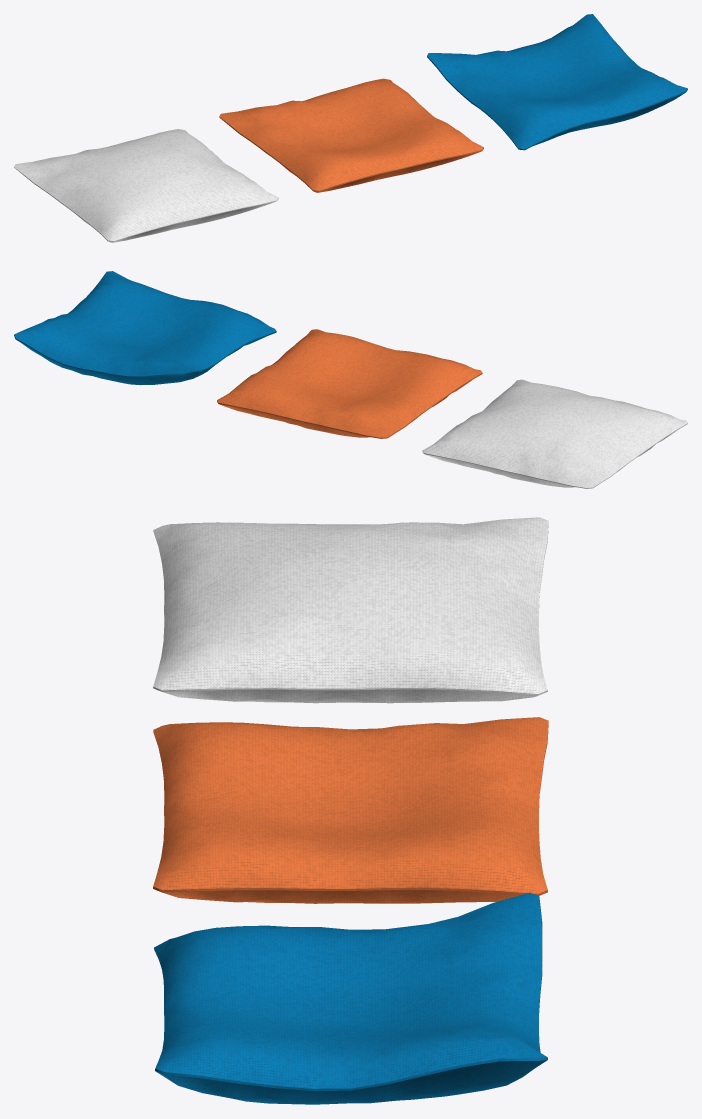
Rendered from Pillow.DAE.
The picture shows the model from 3 angles, top to bottom: view 1: azimuth 30°, elevation 25°; view 2: azimuth 150°, elevation 25°; view 3: azimuth 270°, elevation 25°; orthographic projection. The views are drawn at different scales.
Parts seen in each view (by area): view 1: Pillow3, Pillow1, Pillow2; view 2: Pillow1, Pillow3, Pillow2; view 3: Pillow1, Pillow2, Pillow3.
Boxes of the visible parts, x1,y1,x2,y2 form: Pillow3: (427,14,687,150); Pillow1: (14,129,278,242); Pillow2: (219,78,483,192); Pillow1: (422,379,687,488); Pillow3: (14,271,276,385); Pillow2: (217,329,482,438); Pillow1: (153,517,548,703); Pillow2: (153,717,548,903); Pillow3: (154,892,547,1104).
Bounding box in the file's own units: 1.44 × 0.1154 × 0.4241.
